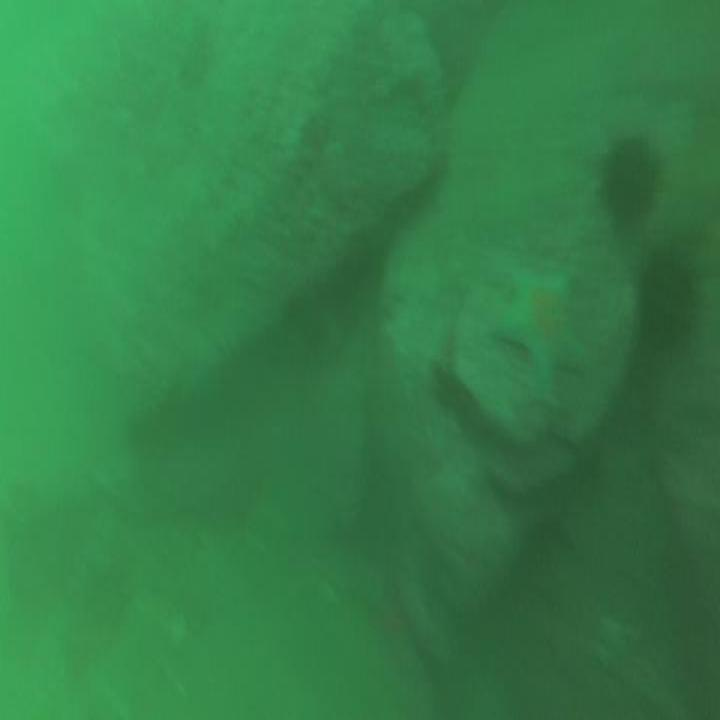echinus: (637, 260, 694, 352), (601, 142, 659, 222)
starfish: (497, 270, 589, 393)
